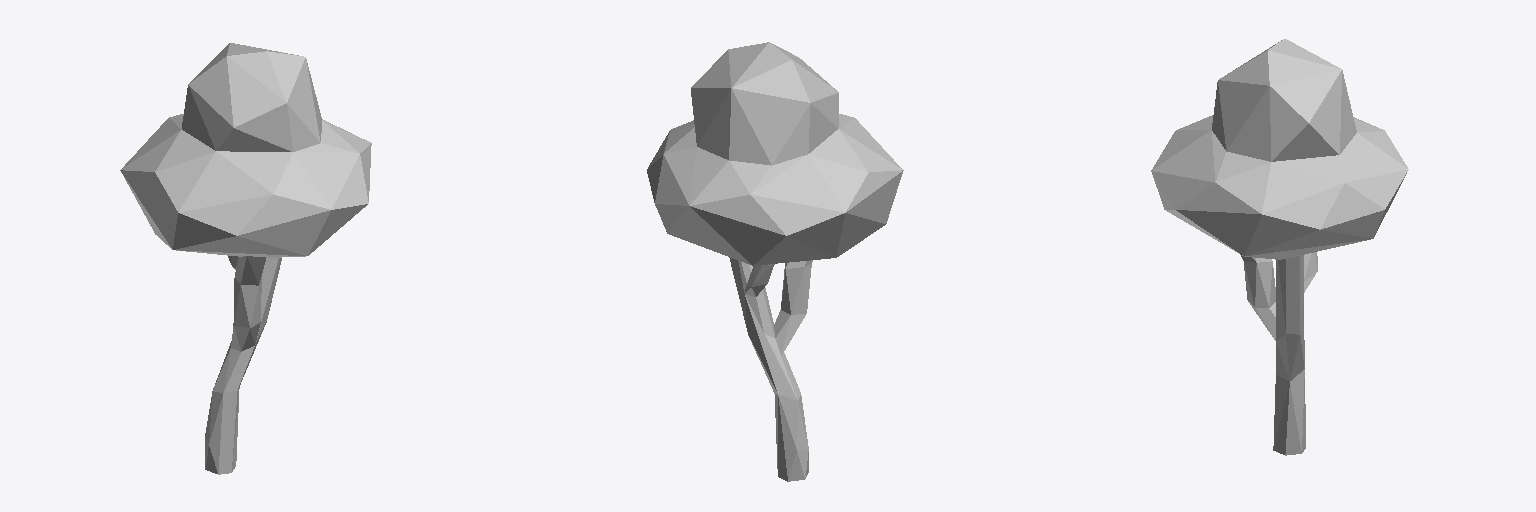
File: tree_05.obj
3 renders of one model, left to right at view 1: azimuth 30°, elevation 25°; view 2: azimuth 150°, elevation 25°; view 3: azimuth 270°, elevation 25°, orthographic.
Parts seen in each view (by area): view 1: Icosphere.001_Icosphere.003; view 2: Icosphere.001_Icosphere.003; view 3: Icosphere.001_Icosphere.003.
Part boxes in pixels (x1,y1,x2,y2): Icosphere.001_Icosphere.003: (120, 43, 371, 474); Icosphere.001_Icosphere.003: (647, 42, 903, 481); Icosphere.001_Icosphere.003: (1151, 39, 1408, 455).
Bounding box in the file's own units: 15.33 × 28.57 × 16.04.